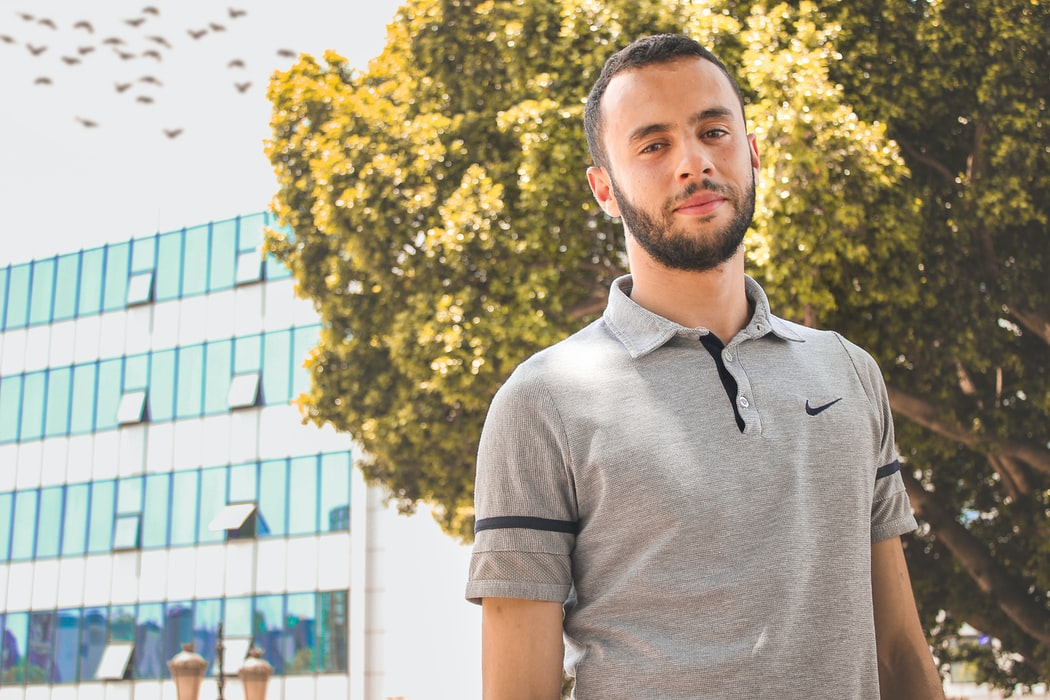beard: (613, 173, 764, 278)
